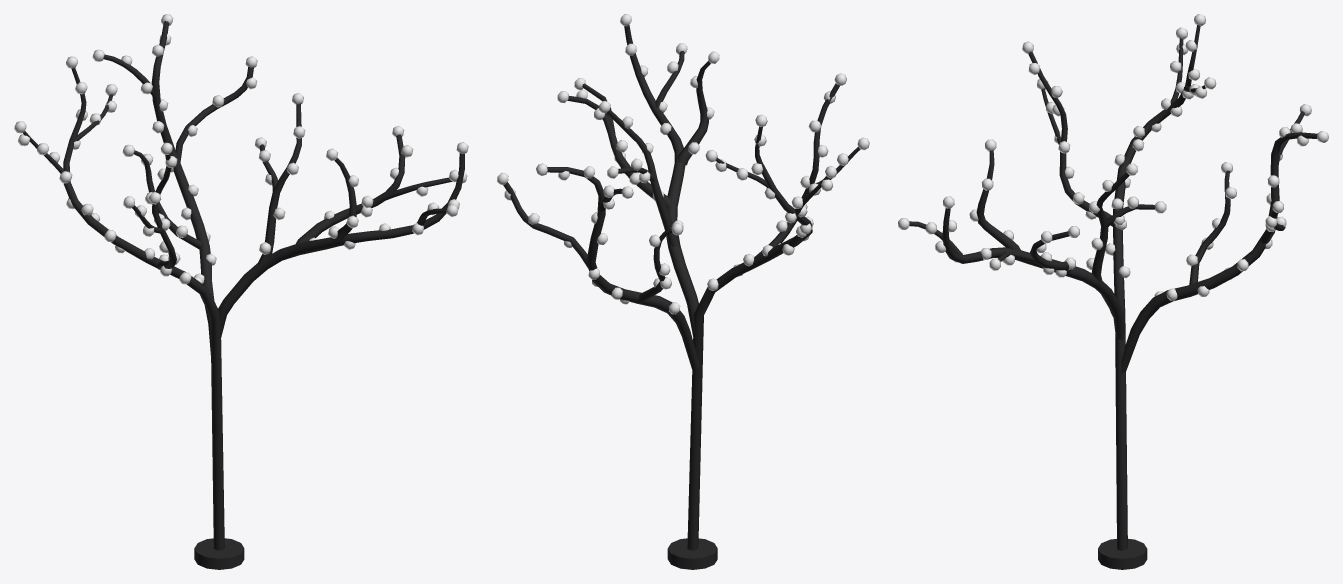
File: DecorativeTree_01.fbx
3 renders of one model, left to right at view 1: azimuth 30°, elevation 25°; view 2: azimuth 150°, elevation 25°; view 3: azimuth 270°, elevation 25°, orthographic.
Parts seen in each view (by area): view 1: DecorativeTree_01; view 2: DecorativeTree_01; view 3: DecorativeTree_01.
Part boxes in pixels (<box>): DecorativeTree_01: <box>14,14,468,569</box>; DecorativeTree_01: <box>497,14,869,569</box>; DecorativeTree_01: <box>898,14,1328,569</box>.
Size of the model in its own units: 1.09 by 1.46 by 1.15.
